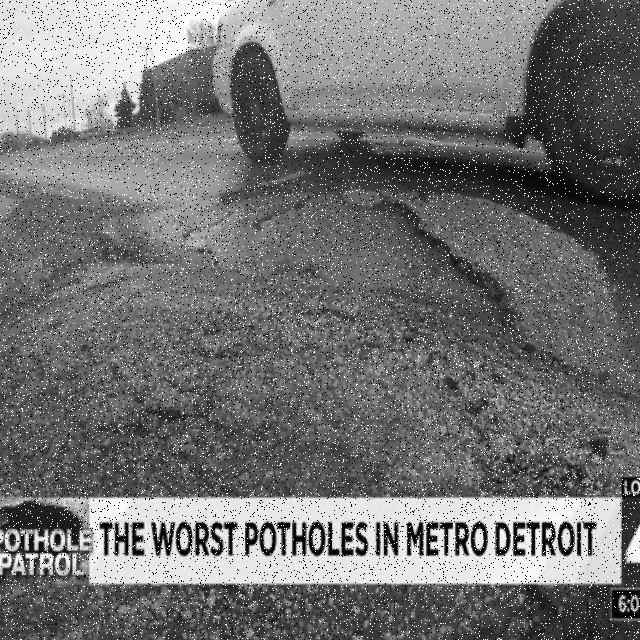pothole: (117, 185, 544, 338)
